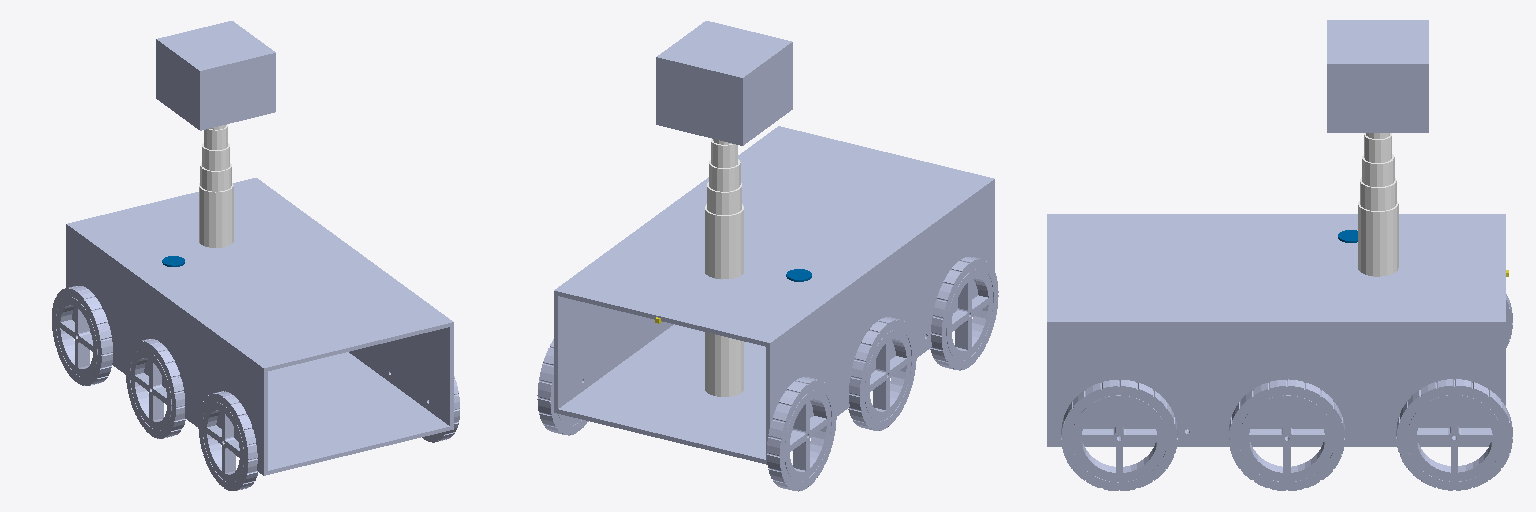
The robot description file, URDF, robot "argos":
<?xml version="1.0" encoding="utf-8"?>
<!-- This URDF was automatically created by SolidWorks to URDF Exporter! Originally created by [author] ([email redacted]) 
     Commit Version: 1.6.0-1-g15f4949  Build Version: 1.6.7594.29634
     For more information, please see http://wiki.ros.org/sw_urdf_exporter -->
<robot
  name="argos">

  <gazebo>
    <plugin name="gazebo_ros_control" filename="libgazebo_ros_control.so">
     <robotNamespace>/argos</robotNamespace>
    </plugin>
  </gazebo>


  <link
    name="base_link">
  </link>

  <joint
    name="chassis_joint"
    type="fixed">
    <origin
      xyz="0 0 0"
      rpy="0 0 0" />
    <parent
      link="base_link" />
    <child
      link="chassis_link" />
    <axis
      xyz="0 0 0" />
  </joint>

  <link
    name="chassis_link">
    <inertial>
      <origin
        xyz="0 0 0"
        rpy="0 0 0" />
      <mass
        value="13.494" />
      <inertia
        ixx="1.0864"
        ixy="2.0039E-16"
        ixz="-4.3603E-16"
        iyy="1.3681"
        iyz="-2.8239E-05"
        izz="0.63282" />
    </inertial>
    <visual>
      <origin
        xyz="0 0 0"
        rpy="0 0 0" />
      <geometry>
        <mesh
          filename="package://argos_description/meshes/base_link.STL" />
      </geometry>
      <material
        name="">
        <color
          rgba="0.79216 0.81961 0.93333 1" />
      </material>
    </visual>
    <collision>
      <origin
        xyz="0 0 0"
        rpy="0 0 0" />
      <geometry>
        <mesh
          filename="package://argos_description/meshes/base_link.STL" />
      </geometry>
    </collision>
  </link>

<!-- RIGHT MID WHEEL -->

  <link
    name="right_mid_wheel_link">
    <inertial>
      <origin
        xyz="0 0.015000000000001 0"
        rpy="0 0 0" />
      <mass
        value="0.820122101622573" />
      <inertia
        ixx="0.00342027097529297"
        ixy="-6.3517102092547E-21"
        ixz="4.60785923306339E-19"
        iyy="0.00671792488217426"
        iyz="-1.81154860439012E-19"
        izz="0.00342027097529297" />
    </inertial>
    <visual>
      <origin
        xyz="0 0 0"
        rpy="-1.57 0 0" />
      <geometry>
        <mesh
          filename="package://argos_description/meshes/right_mid_wheel_link.STL" />
      </geometry>
      <material
        name="">
        <color
          rgba="0.792156862745098 0.819607843137255 0.933333333333333 1" />
      </material>
    </visual>
    <collision>
      <origin
        xyz="0 0 0"
        rpy="0 0 0" />
      <geometry>
        <cylinder radius="0.1143" length="0.03"/>
      </geometry>
    </collision>
  </link>
  <joint
    name="right_mid_wheel_joint"
    type="continuous">
    <origin
      xyz="0.21223 0 0"
      rpy="0 -1.57 0" />
    <parent
      link="chassis_link" />
    <child
      link="right_mid_wheel_link" />
    <axis
      xyz="0 0 1" />
  </joint>

<!-- RIGHT REAR WHEEL -->

  <link
    name="right_rear_wheel_link">
    <inertial>
      <origin
        xyz="0 0.0150000000000001 0"
        rpy="0 0 0" />
      <mass
        value="0.820122101622576" />
      <inertia
        ixx="0.00342027097529298"
        ixy="2.01461140192011E-19"
        ixz="1.24683249835833E-18"
        iyy="0.00671792488217428"
        iyz="4.2187156765204E-20"
        izz="0.00342027097529298" />
    </inertial>
    <visual>
      <origin
        xyz="0 0 0"
        rpy="-1.57 0 0" />
      <geometry>
        <mesh
          filename="package://argos_description/meshes/right_rear_wheel_link.STL" />
      </geometry>
      <material
        name="">
        <color
          rgba="0.792156862745098 0.819607843137255 0.933333333333333 1" />
      </material>
    </visual>
    <collision>
      <origin
        xyz="0 0 0"
        rpy="0 0 0" />
      <geometry>
        <cylinder radius="0.1143" length="0.03"/>
      </geometry>
    </collision>
  </link>
  <joint
    name="right_rear_wheel_joint"
    type="continuous">
    <origin
      xyz="0.210 -0.32905 0.00082273"
      rpy="0 -1.57 0" />
    <parent
      link="chassis_link" />
    <child
      link="right_rear_wheel_link" />
    <axis
      xyz="0 0 1" />
  </joint>

<!-- RIGHT FRONT WHEEL -->

  <link
    name="right_front_wheel_link">
    <inertial>
      <origin
        xyz="0 0.015 -6.93889390390723E-18"
        rpy="0 0 0" />
      <mass
        value="0.820122101622575" />
      <inertia
        ixx="0.00342027097529298"
        ixy="6.74204766962017E-20"
        ixz="-3.25260651745651E-19"
        iyy="0.00671792488217427"
        iyz="-2.84377181797463E-19"
        izz="0.00342027097529298" />
    </inertial>
    <visual>
      <origin
        xyz="0 0 0"
        rpy="-1.57 0 0" />
      <geometry>
        <mesh
          filename="package://argos_description/meshes/right_front_wheel_link.STL" />
<!--           <cylinder radius="0.1143" length="0.03"/> -->
      </geometry>
        <material
        name="">
        <color
          rgba="0.792156862745098 0.819607843137255 0.933333333333333 1" />
      </material>
    </visual>
    <collision>
      <origin
        xyz="0 0 0"
        rpy="0 0 0" />
      <geometry>
        <cylinder radius="0.1143" length="0.03"/>
      </geometry>
    </collision>
  </link>
  <joint
    name="right_front_wheel_joint"
    type="continuous">
    <origin
      xyz="0.21223 0.32905 0.00082273"
      rpy="0 -1.57 0" />
    <parent
      link="chassis_link" />
    <child
      link="right_front_wheel_link" />
    <axis
      xyz="0 0 1" />
  </joint>

<!-- LEFT FRONT WHEEL -->

  <link
    name="left_front_wheel_link">
    <inertial>
      <origin
        xyz="0 0.015 1.3878E-17"
        rpy="0 0 0" />
      <mass
        value="0.82012" />
      <inertia
        ixx="0.0034203"
        ixy="2.4819E-20"
        ixz="5.9631E-19"
        iyy="0.0067179"
        iyz="2.8106E-19"
        izz="0.0034203" />
    </inertial>
    <visual>
      <origin
        xyz="0 0 0"
        rpy="-1.57 0 0" />
      <geometry>
        <mesh
          filename="package://argos_description/meshes/left_front_wheel_link.STL" />
<!--           <cylinder radius="0.1143" length="0.03"/> -->
      </geometry>
      <material
        name="">
        <color
          rgba="0.79216 0.81961 0.93333 1" />
      </material>
    </visual>
    <collision>
      <origin
        xyz="0 0 0"
        rpy="0 0 0" />
      <geometry>
        <cylinder radius="0.1143" length="0.03"/>
      </geometry>
    </collision>
  </link>
  <joint
    name="left_front_wheel_joint"
    type="continuous">
    <origin
      xyz="-0.31777 0.32905 0.00082273"
      rpy="0 -1.57 0" />
    <parent
      link="chassis_link" />
    <child
      link="left_front_wheel_link" />
    <axis
      xyz="0 0 1" />
  </joint>

<!-- LEFT REAR WHEEL -->

  <link
    name="left_rear_wheel_link">
    <inertial>
      <origin
        xyz="0 0.015 0"
        rpy="0 0 0" />
      <mass
        value="0.820122101622576" />
      <inertia
        ixx="0.00342027097529298"
        ixy="-2.79214332337302E-19"
        ixz="0"
        iyy="0.00671792488217428"
        iyz="5.55425286818949E-20"
        izz="0.00342027097529298" />
    </inertial>
    <visual>
      <origin
        xyz="0 0 0"
        rpy="-1.57 0 0" />
      <geometry>
        <mesh
          filename="package://argos_description/meshes/left_rear_wheel_link.STL" />
      </geometry>
      <material
        name="">
        <color
          rgba="0.792156862745098 0.819607843137255 0.933333333333333 1" />
      </material>
    </visual>
    <collision>
      <origin
        xyz="0 0 0"
        rpy="0 0 0" />
      <geometry>
        <cylinder radius="0.1143" length="0.03"/>
      </geometry>
    </collision>
  </link>
  <joint
    name="left_rear_wheel_joint"
    type="continuous">
    <origin
      xyz="-0.317 -0.32905 0.00082273"
      rpy="0 -1.57 0" />
    <parent
      link="chassis_link" />
    <child
      link="left_rear_wheel_link" />
    <axis
      xyz="0 0 1" />
  </joint>

<!-- LEFT MID WHEEL -->

  <link
    name="left_mid_wheel_link">
    <inertial>
      <origin
        xyz="0 0.015 0"
        rpy="0 0 0" />
      <mass
        value="0.820122101622574" />
      <inertia
        ixx="0.00342027097529297"
        ixy="5.33859423250119E-20"
        ixz="8.13151629364128E-20"
        iyy="0.00671792488217427"
        iyz="2.05696505401071E-19"
        izz="0.00342027097529297" />
    </inertial>
    <visual>
      <origin
        xyz="0 0 0"
        rpy="-1.57 0 0" />
      <geometry>
        <mesh
          filename="package://argos_description/meshes/left_rear_wheel_link.STL" />
      </geometry>
      <material
        name="">
        <color
          rgba="0.792156862745098 0.819607843137255 0.933333333333333 1" />
      </material>
    </visual>
    <collision>
      <origin
        xyz="0 0 0"
        rpy="0 0 0" />
      <geometry>
        <cylinder radius="0.1143" length="0.03"/>
      </geometry>
    </collision>
  </link>
  <joint
    name="left_mid_wheel_joint"
    type="continuous">
    <origin
      xyz="-0.31777 0 0"
      rpy="0 -1.57 0" />
    <parent
      link="chassis_link" />
    <child
      link="left_mid_wheel_link" />
    <axis
      xyz="0 0 1" />
  </joint>

<!-- MAST -->

  <link
    name="mast_link">
    <inertial>
      <origin
        xyz="0 0 0"
        rpy="0 0 0" />
      <mass
        value="0" />
      <inertia
        ixx="0"
        ixy="0"
        ixz="0"
        iyy="0"
        iyz="0"
        izz="0" />
    </inertial>
    <visual>
      <origin
        xyz="0 0 0"
        rpy="0 0 0" />
      <geometry>
        <mesh
          filename="package://argos_description/meshes/mast_link.STL" />
      </geometry>
      <material
        name="">
        <color
          rgba="1 1 1 1" />
      </material>
    </visual>
    <collision>
      <origin
        xyz="0 0 0"
        rpy="0 0 0" />
      <geometry>
        <mesh
          filename="package://argos_description/meshes/mast_link.STL" />
      </geometry>
    </collision>
  </link>
  <joint
    name="mast_joint"
    type="fixed">
    <origin
      xyz="-0.037765 0.17905 -0.021497"
      rpy="1.5708 0 0" />
    <parent
      link="chassis_link" />
    <child
      link="mast_link" />
    <axis
      xyz="0 0 0" />
  </joint>
  <link
    name="camera_link">
    <inertial>
      <origin
        xyz="0 0.075 2.77555756156289E-17"
        rpy="0 0 0" />
      <mass
        value="6" />
      <inertia
        ixx="0.03125"
        ixy="-7.22801448323669E-19"
        ixz="-1.09865820145197E-19"
        iyy="0.04"
        iyz="-5.42101086242748E-19"
        izz="0.03125" />
    </inertial>
    <visual>
      <origin
        xyz="0 0 0"
        rpy="0 0 0" />
      <geometry>
        <mesh
          filename="package://argos_description/meshes/camera_link.STL" />
      </geometry>
      <material
        name="">
        <color
          rgba="0.792156862745098 0.819607843137255 0.933333333333333 1" />
      </material>
    </visual>
    <collision>
      <origin
        xyz="0 0 0"
        rpy="0 0 0" />
      <geometry>
        <mesh
          filename="package://argos_description/meshes/camera_link.STL" />
      </geometry>
    </collision>
  </link>
  <joint
    name="camera_joint"
    type="fixed">
    <origin
      xyz="0 0.6 0"
      rpy="0 0 0" />
    <parent
      link="mast_link" />
    <child
      link="camera_link" />
    <axis
      xyz="0 0 0" />
  </joint>

  <!--transmissions -->

  <transmission name="left_rear_wheel_trans">
    <type>hardware_interface</type>
    <joint name="left_rear_wheel_joint">
      <hardwareInterface>hardware_interface/VelocityJointInterface</hardwareInterface>
    </joint>
    <actuator name="left_rear_motor">
      <mechanicalReduction>1</mechanicalReduction>
      <motorTorqueConstant>1</motorTorqueConstant>
    </actuator>
  </transmission>
  <transmission name="left_mid_wheel_trans">
    <type>hardware_interface</type>
    <joint name="left_mid_wheel_joint">
      <hardwareInterface>hardware_interface/VelocityJointInterface</hardwareInterface>
    </joint>
    <actuator name="left_mid_motor">
      <mechanicalReduction>1</mechanicalReduction>
      <motorTorqueConstant>1</motorTorqueConstant>
    </actuator>
  </transmission>

  <transmission name="left_front_wheel_trans">
    <type>hardware_interface</type>
    <joint name="left_front_wheel_joint">
      <hardwareInterface>hardware_interface/VelocityJointInterface</hardwareInterface>
    </joint>
    <actuator name="left_front_motor">
      <mechanicalReduction>1</mechanicalReduction>
      <motorTorqueConstant>1</motorTorqueConstant>
    </actuator>
  </transmission>


  <transmission name="right_rear_wheel_trans">
    <type>hardware_interface</type>
    <joint name="right_rear_wheel_joint">
      <hardwareInterface>hardware_interface/VelocityJointInterface</hardwareInterface>
    </joint>
    <actuator name="right_rear_motor">
      <mechanicalReduction>1</mechanicalReduction>
      <motorTorqueConstant>1</motorTorqueConstant>
    </actuator>
  </transmission>
  <transmission name="right_mid_wheel_trans">
    <type>hardware_interface</type>
    <joint name="right_mid_wheel_joint">
      <hardwareInterface>hardware_interface/VelocityJointInterface</hardwareInterface>
    </joint>
    <actuator name="right_mid_motor">
      <mechanicalReduction>1</mechanicalReduction>
      <motorTorqueConstant>1</motorTorqueConstant>
    </actuator>
  </transmission>

  <transmission name="right_front_wheel_trans">
    <type>hardware_interface</type>
    <joint name="right_front_wheel_joint">
      <hardwareInterface>hardware_interface/VelocityJointInterface</hardwareInterface>
    </joint>
    <actuator name="right_front_motor">
      <mechanicalReduction>1</mechanicalReduction>
      <motorTorqueConstant>1</motorTorqueConstant>
    </actuator>
  </transmission>


  <!-- IMU -->
  <joint name="imu_joint" type="fixed">
    <axis xyz="1 0 0"/> <!-- 0 1 0 -->
    <origin xyz="0 0 0.19"/>
    <parent link="base_link"/>
    <child link="imu_link"/>
  </joint>


<link name="imu_link">
  <inertial>
    <mass value="0.001"/>
    <origin rpy="0 0 0" xyz="0 0 0"/>
    <inertia ixx="0.0001" ixy="0" ixz="0" iyy="0.000001" iyz="0" izz="0.0001"/>
  </inertial>
  <visual>
    <origin rpy="0 0 0" xyz="0 0 0"/>
    <geometry>
      <box size="0.001 0.001 0.001"/>
    </geometry>
  </visual>
  <collision>
    <origin rpy="0 0 0" xyz="0 0 0"/>
    <geometry>
      <box size=".001 .001 .001"/>
    </geometry>
  </collision>
</link>


<gazebo reference="imu_link">
  <gravity>true</gravity>
  <sensor name="imu_sensor" type="imu">
    <always_on>true</always_on>
    <update_rate>100</update_rate>
    <visualize>true</visualize>
    <topic>__default_topic__</topic>
    <plugin filename="libgazebo_ros_imu_sensor.so" name="imu_plugin">
      <topicName>imu/data</topicName>
      <bodyName>imu_link</bodyName>
      <updateRateHZ>10.0</updateRateHZ>
      <gaussianNoise>0.0</gaussianNoise>
      <xyzOffset>0 0 0</xyzOffset>
      <rpyOffset>0 0 0</rpyOffset>
      <frameName>base_link</frameName>
      <initialOrientationAsReference>false</initialOrientationAsReference>
    </plugin>
    <pose>0 0 0 0 0 0</pose>
    </sensor>
  </gazebo>

  <!-- Camera -->
<link name="fpv_camera_link">
  <inertial>
    <mass value="0.001"/>
    <origin rpy="0 0 0" xyz="0 0 0"/>
    <inertia ixx="0.0001" ixy="0" ixz="0" iyy="0.000001" iyz="0" izz="0.0001"/>
  </inertial>
  <visual>
    <origin rpy="0 0 0" xyz="0 0 0"/>
    <geometry>
      <box size="0.01 0.01 0.01"/>
    </geometry>
  </visual>
  <collision>
    <origin rpy="0 0 0" xyz="0 0 0"/>
    <geometry>
      <box size=".01 .01 .01"/>
    </geometry>
  </collision>
</link>

  <joint name="fpv_camera_joint" type="fixed">
    <axis xyz="1 0 0"/> <!-- 0 1 0 -->
    <origin xyz="-.03 0.43 0.23" rpy="0 0 1.57"/>
    <parent link="chassis_link"/>
    <child link="fpv_camera_link"/>
  </joint>
  <!-- camera -->
  <gazebo reference="fpv_camera_link">
    <sensor type="camera" name="camera1">
      <update_rate>30.0</update_rate>
      <camera name="head">
        <horizontal_fov>2.70526</horizontal_fov>
        <image>
          <width>700</width>
          <height>400</height>
          <format>R8G8B8</format>
        </image>
        <clip>
          <near>0.02</near>
          <far>300</far>
        </clip>
        <noise>
          <type>gaussian</type>
          <!-- Noise is sampled independently per pixel on each frame.
               That pixel's noise value is added to each of its color
               channels, which at that point lie in the range [0,1]. -->
          <mean>0.0</mean>
          <stddev>0.007</stddev>
        </noise>
      </camera>
      <plugin name="camera_controller" filename="libgazebo_ros_camera.so">
        <alwaysOn>true</alwaysOn>
        <updateRate>0.0</updateRate>
        <cameraName>camera1</cameraName>
        <imageTopicName>image_raw</imageTopicName>
        <cameraInfoTopicName>camera_info</cameraInfoTopicName>
        <frameName>camera_link</frameName>
        <hackBaseline>0.07</hackBaseline>
        <distortionK1>0.0</distortionK1>
        <distortionK2>0.0</distortionK2>
        <distortionK3>0.0</distortionK3>
        <distortionT1>0.0</distortionT1>
        <distortionT2>0.0</distortionT2>
      </plugin>
    </sensor>
  </gazebo>

  <!-- GPS -->
  <link name="navsat_link">
    <visual>
      <geometry>
        <cylinder radius="0.026" length="0.016" />
      </geometry>
      <origin xyz="0 0 0.0" />
      <material name="" />
    </visual>
  </link>
  <joint name="navsat_joint" type="fixed">
    <parent link="chassis_link" />
    <child link="navsat_link" />
    <origin xyz="-0.180 0.126 0.235" />
  </joint>

 <gazebo>
  <plugin name="gps_controller" filename="libhector_gazebo_ros_gps.so">
    <alwayson>true</alwayson>
    <updaterate>1.0</updaterate>
    <bodyname>navsat_link</bodyname>
    <topicname>gps/fix</topicname>
    <frameName>base_link</frameName>
    <frameId>base_link</frameId>
    <velocitytopicname>/fix_velocity</velocitytopicname>
    <drift>0.0 0.0 0.0</drift>
    <gaussiannoise>0.1 0.1 0.1</gaussiannoise>
    <velocitydrift>0 0 0</velocitydrift>
    <velocitygaussiannoise>0.1 0.1 0.1</velocitygaussiannoise>
  </plugin>
 </gazebo>

</robot>

--- Facts derived from the render (not from the file) ---
Views: 3 orthographic renders of the robot side by side, from view 1: azimuth 30°, elevation 25°; view 2: azimuth 150°, elevation 25°; view 3: azimuth 270°, elevation 25°.
Model argos with 13 links and 12 joints (6 continuous, 6 fixed), rooted at base_link, posed all joints at 0.
Links seen in each view (by area): view 1: chassis_link, camera_link, left_front_wheel_link, left_mid_wheel_link, left_rear_wheel_link, mast_link; view 2: chassis_link, camera_link, mast_link, left_front_wheel_link, left_mid_wheel_link, left_rear_wheel_link, right_front_wheel_link; view 3: chassis_link, camera_link, right_front_wheel_link, right_mid_wheel_link, right_rear_wheel_link, mast_link.
Link boxes in pixels (x1,y1,x2,y2): chassis_link: [66, 178, 453, 475]; camera_link: [156, 21, 275, 130]; left_front_wheel_link: [52, 286, 112, 385]; left_mid_wheel_link: [126, 339, 185, 438]; left_rear_wheel_link: [198, 391, 257, 490]; mast_link: [199, 124, 233, 247]; chassis_link: [554, 126, 994, 464]; camera_link: [656, 21, 792, 145]; mast_link: [705, 138, 743, 396]; left_front_wheel_link: [767, 377, 836, 491]; left_mid_wheel_link: [848, 317, 916, 430]; left_rear_wheel_link: [930, 257, 998, 370]; right_front_wheel_link: [537, 339, 588, 435]; chassis_link: [1047, 214, 1505, 446]; camera_link: [1327, 20, 1428, 132]; right_front_wheel_link: [1396, 379, 1512, 490]; right_mid_wheel_link: [1229, 379, 1344, 490]; right_rear_wheel_link: [1061, 380, 1177, 490]; mast_link: [1358, 133, 1398, 276].
Size in the robot's own frame: 0.563 by 0.9143 by 0.8428 metres.
Meshes: 8 distinct files referenced, 9 mesh visuals loaded (8 binary STL).